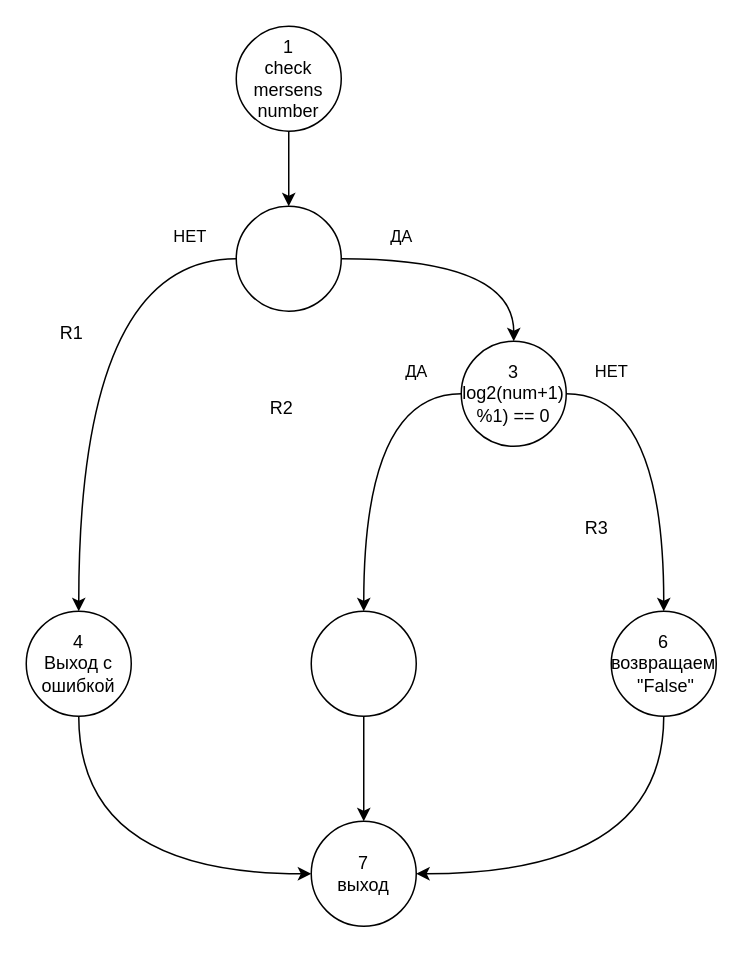
Some shapes in this 743 by 953 pixel diagram are drawn without their labels. The shapes that lost their labels are listed below. From the top down, each one's box as (x1, y1, x2, y2) in pixels, then its label:
(235, 205, 341, 311): 2 number это целое?
(310, 610, 416, 716): 5 возвращаем "True"
